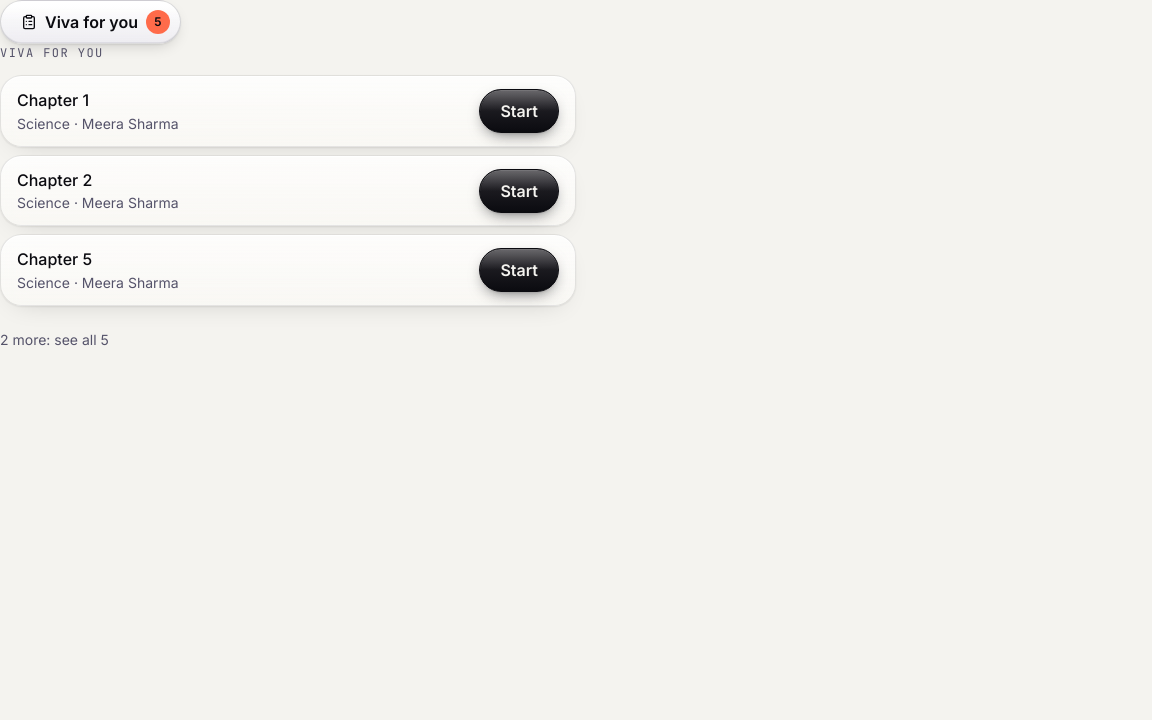
Test: set vivas on the student's home › home shows three, always the one asked for, and the rest open the window
The image size is (1152, 720).
Check: the text "Chapter 5" is shown, box left=17, top=249, right=92, bottom=269
Check: the text "Chapter 1" is shown, box left=17, top=90, right=89, bottom=110
Click the button "2 more: see all 5". click: click(54, 340)
box: left=0, top=318, right=109, bottom=362
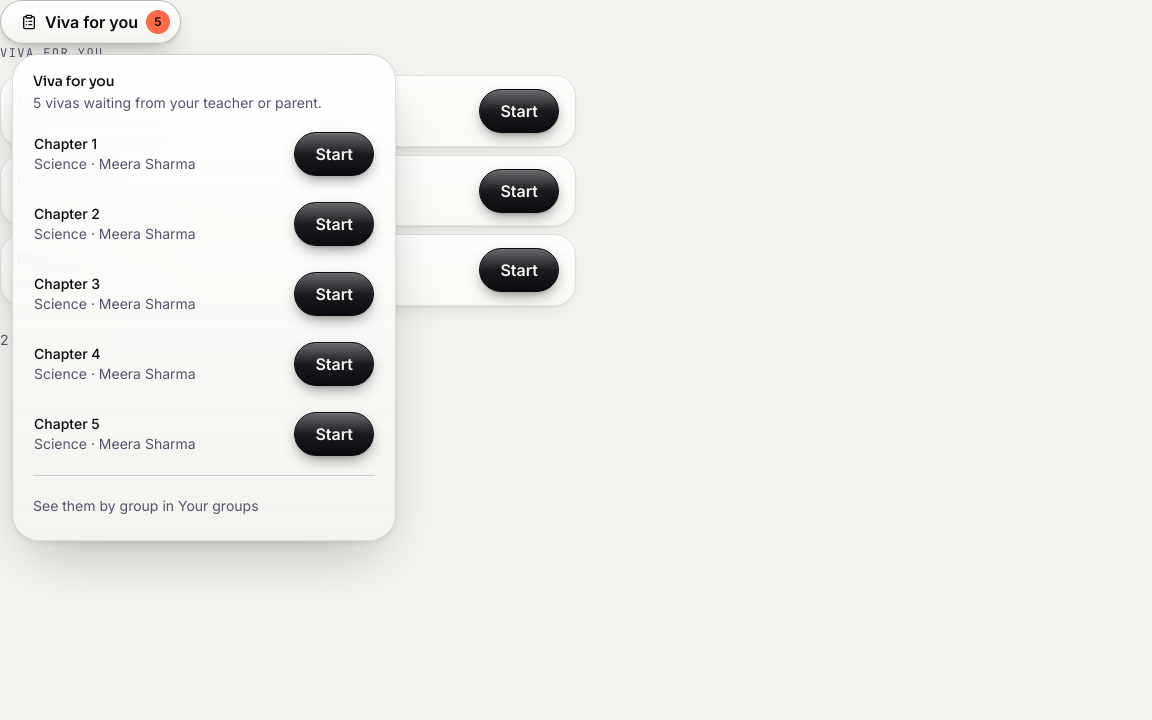
Check: the text "Chapter 3" is shown, box left=34, top=275, right=100, bottom=292
